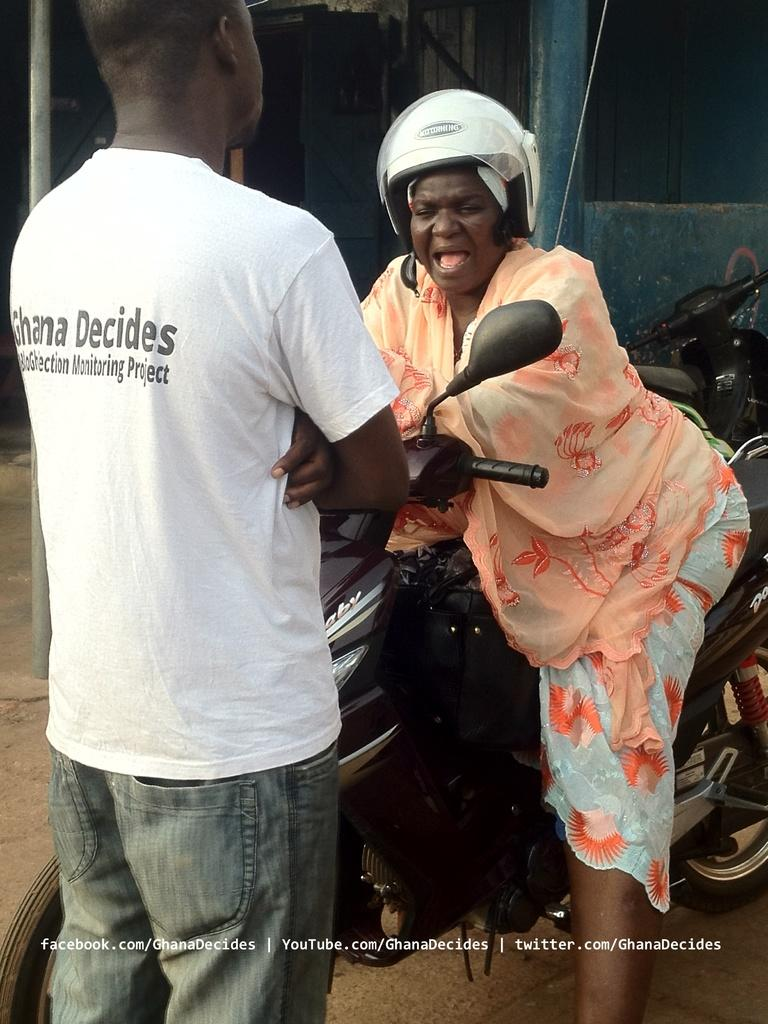helmet: (376, 88, 541, 288)
